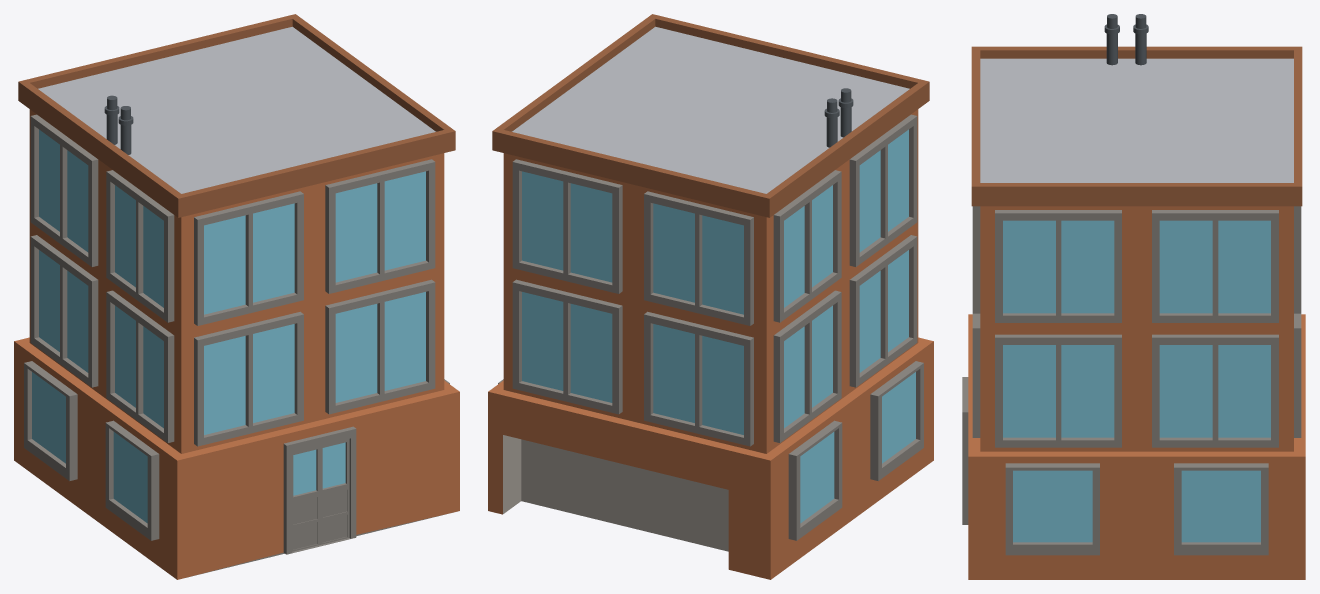
File: SM_Building_01_A.gltf
3 views of the same model, side by side, from view 1: azimuth 30°, elevation 25°; view 2: azimuth 150°, elevation 25°; view 3: azimuth 270°, elevation 25° (orthographic). The views are drawn at different scales.
Visible parts, largest first — view 1: SM_Building_01_A; view 2: SM_Building_01_A; view 3: SM_Building_01_A.
Boxes of the visible parts, x1,y1,x2,y2 form: SM_Building_01_A: [14, 14, 459, 579]; SM_Building_01_A: [488, 14, 933, 579]; SM_Building_01_A: [962, 14, 1305, 579].
Size of the model in its own units: 3.3 by 4.39 by 3.17.
